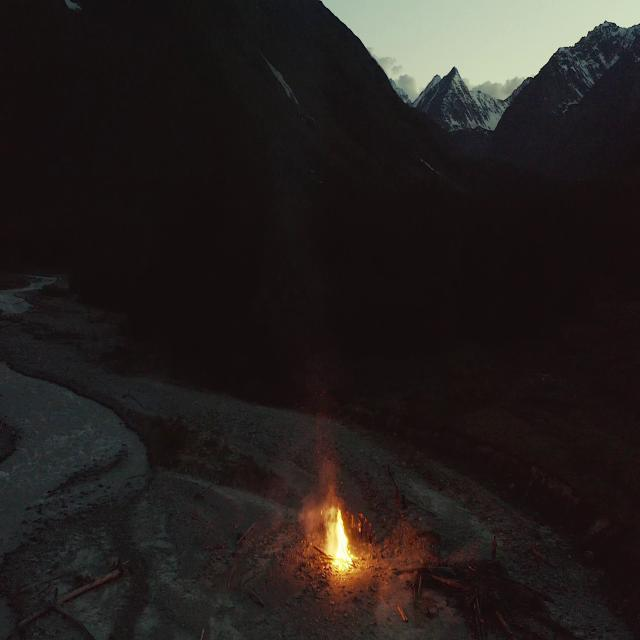Fire: (310, 492, 360, 579)
